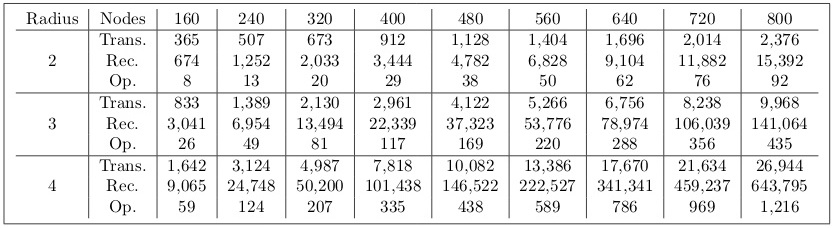column: (751, 2, 808, 228), (675, 1, 731, 228), (366, 1, 421, 227), (520, 1, 575, 227), (597, 6, 652, 228), (444, 2, 498, 228), (26, 3, 80, 227), (228, 1, 276, 227), (297, 2, 345, 227), (99, 3, 146, 228), (167, 2, 206, 228)
row: (1, 117, 833, 133), (2, 11, 833, 27), (2, 178, 833, 194), (3, 158, 833, 174), (1, 53, 833, 68), (2, 95, 833, 110), (6, 199, 833, 214), (1, 32, 833, 46), (1, 137, 833, 151), (1, 74, 833, 87)
